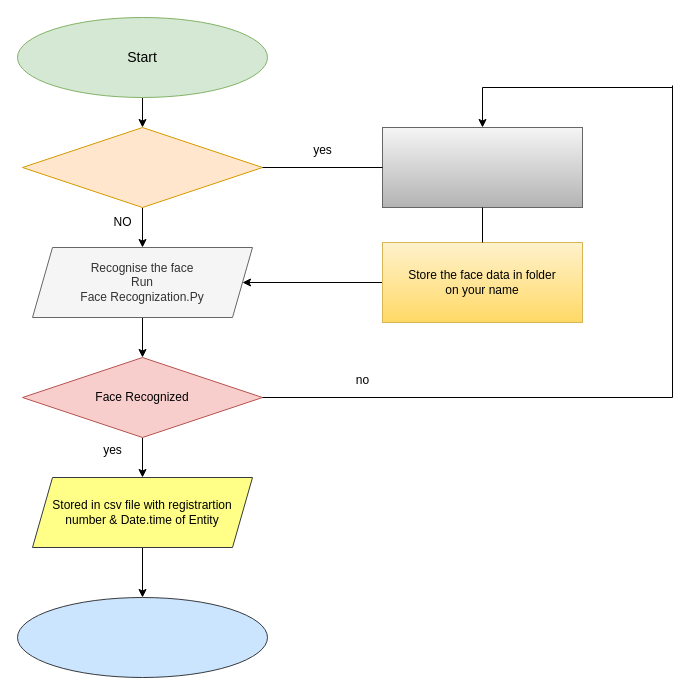
Some shapes in this 691 by 695 pixel diagram are drawn without their labels. Each missing label, with the box of its shape:
END: (16, 596, 268, 678)
Give your photograph: (382, 126, 582, 208)
New User? Run Create_dataset: (22, 126, 262, 208)
